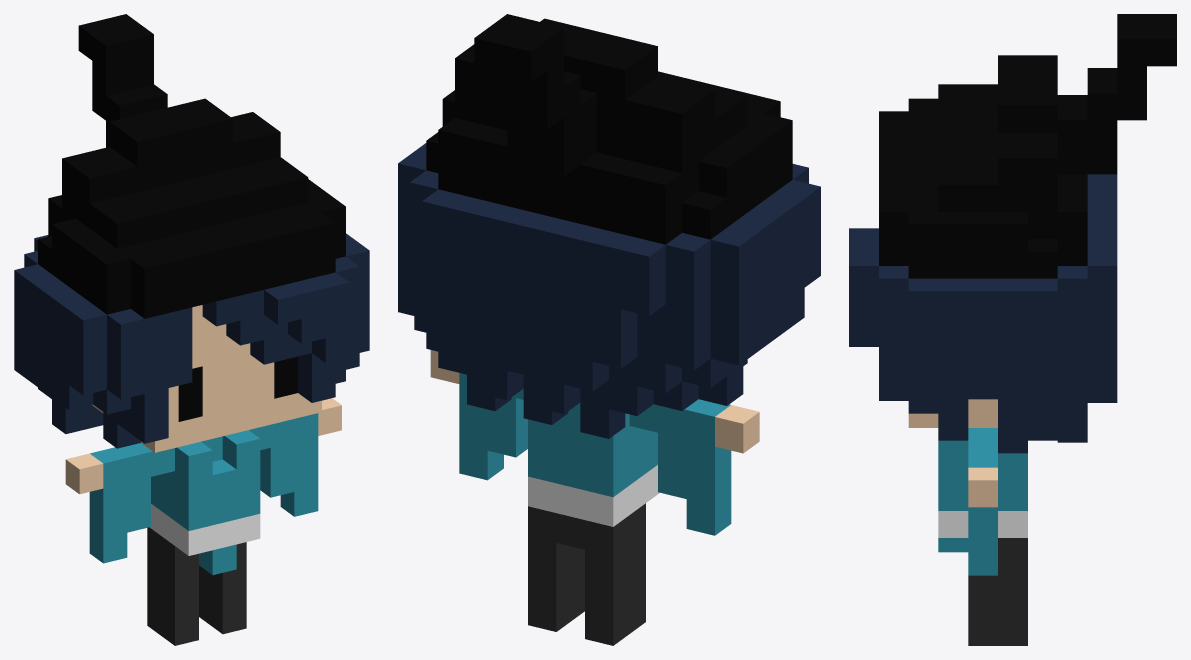
Rendered from mapkari-1.obj.
3 views of the same model, side by side, from view 1: azimuth 30°, elevation 25°; view 2: azimuth 150°, elevation 25°; view 3: azimuth 270°, elevation 25° (orthographic). The views are drawn at different scales.
Parts seen in each view (by area): view 1: mapkari-1; view 2: mapkari-1; view 3: mapkari-1.
Boxes of the visible parts, x1,y1,x2,y2 form: mapkari-1: (14,14,369,645); mapkari-1: (398,14,820,645); mapkari-1: (849,14,1176,645).
Bounding box in the file's own units: 12 × 22 × 11.
1 material, 1 textured.
